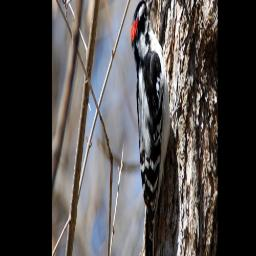Woodpecker: (129, 0, 172, 256)
